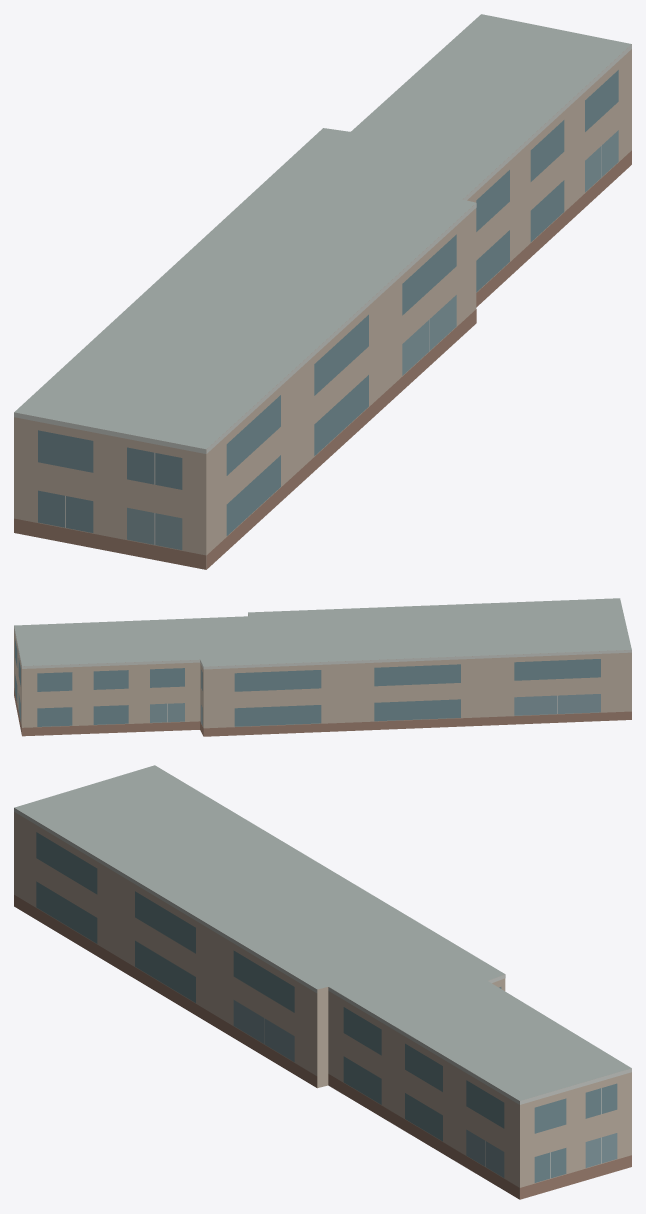
File: survey-upis-32712676.glb
3 views of the same model, one above another, from view 1: azimuth 30°, elevation 25°; view 2: azimuth 150°, elevation 25°; view 3: azimuth 270°, elevation 25° (orthographic). The views are drawn at different scales.
Visible parts, largest first — view 1: survey-upis-32712676.tmp; view 2: survey-upis-32712676.tmp; view 3: survey-upis-32712676.tmp.
Boxes of the visible parts, x1,y1,x2,y2 form: survey-upis-32712676.tmp: (14,14,631,569); survey-upis-32712676.tmp: (14,598,631,736); survey-upis-32712676.tmp: (14,765,631,1199).
Size of the model in its own units: 44.52 by 6.1 by 34.61.
